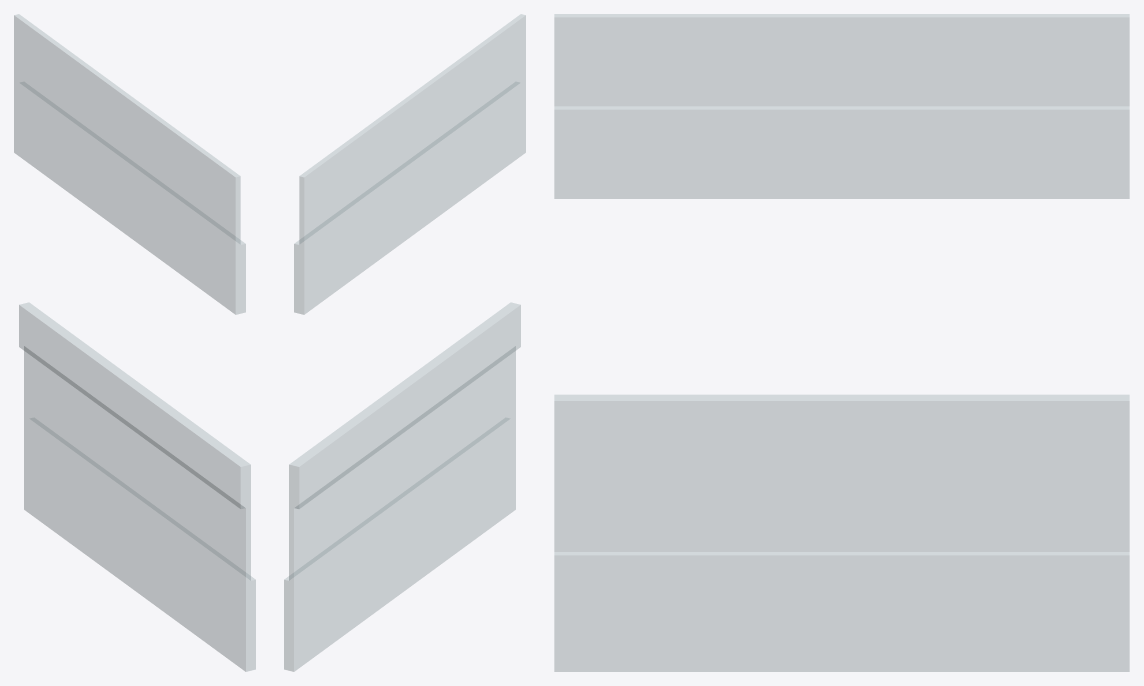
The model's file is double_decker_windscreen.glb.
3 renders of one model, left to right at view 1: azimuth 30°, elevation 25°; view 2: azimuth 150°, elevation 25°; view 3: azimuth 270°, elevation 25°, orthographic. The views are drawn at different scales.
Visible parts, largest first — view 1: body:compound; view 2: body:compound; view 3: body:compound.
Boxes of the visible parts, left/top/right/bottom form: body:compound: left=14, top=14, right=255, bottom=671; body:compound: left=284, top=14, right=525, bottom=671; body:compound: left=554, top=14, right=1129, bottom=671.
Size of the model in its own units: 0.125 by 2.94 by 2.38.
